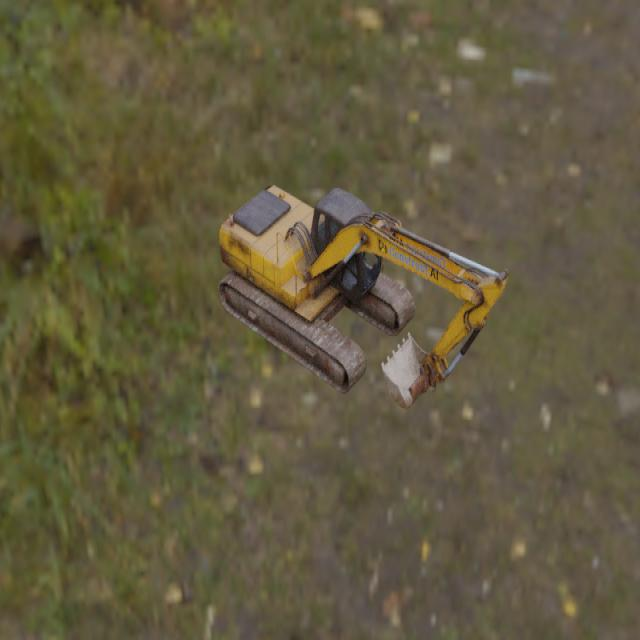excavator: (217, 184, 509, 409)
